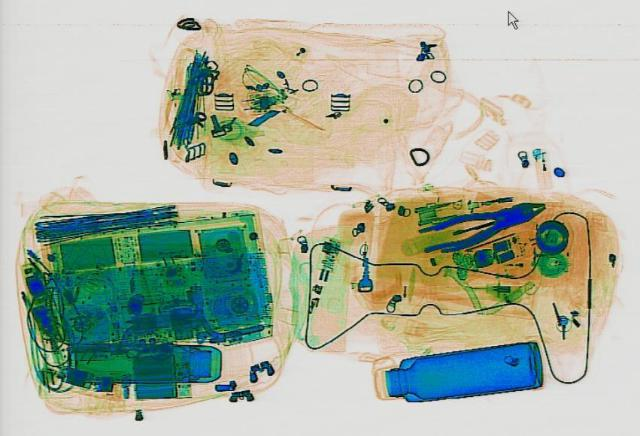Pliers: (418, 190, 556, 254)
